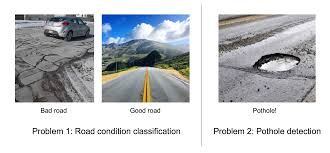pothole: (17, 39, 88, 100), (251, 51, 305, 75)
